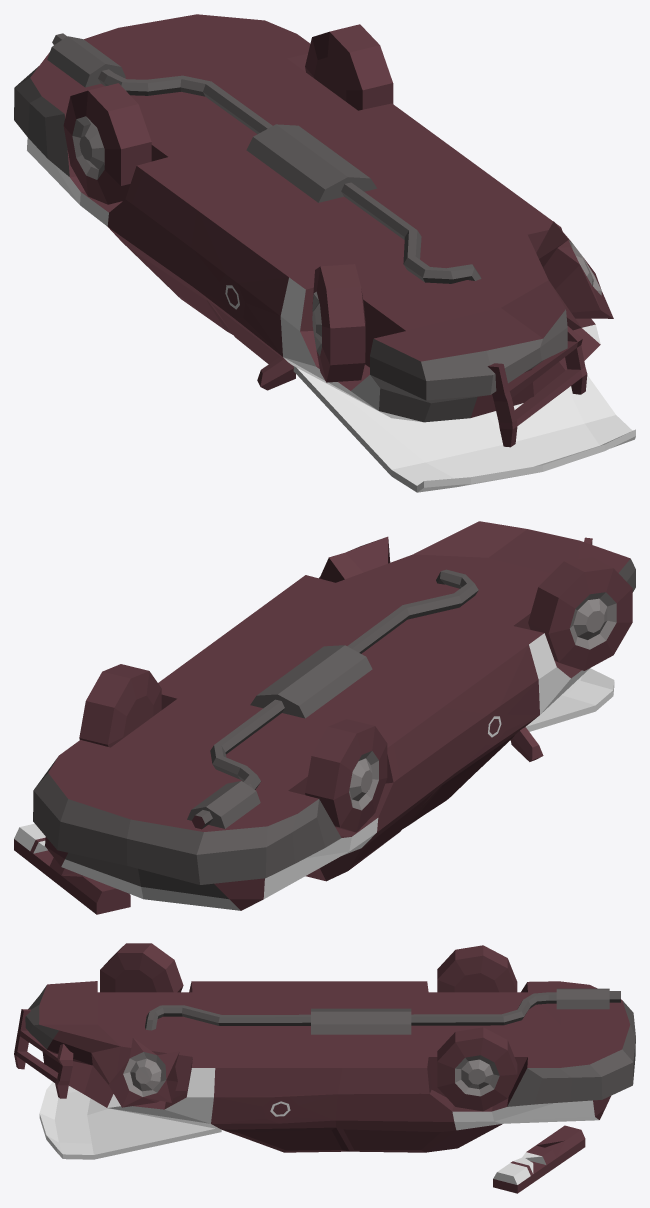
File: car-police-broken-apocalypse.fbx
3 renders of one model, top to bottom at view 1: azimuth 30°, elevation 25°; view 2: azimuth 150°, elevation 25°; view 3: azimuth 270°, elevation 25°, orthographic. The views are drawn at different scales.
Visible parts, largest first — view 1: car-police-broken-apocalypse-base, car-police-broken-apocalypse-wheels; view 2: car-police-broken-apocalypse-base, car-police-broken-apocalypse-wheels; view 3: car-police-broken-apocalypse-base, car-police-broken-apocalypse-wheels.
Boxes of the visible parts, x1=… form: car-police-broken-apocalypse-base: x1=14, y1=14, x2=635, y2=492; car-police-broken-apocalypse-wheels: x1=63, y1=24, x2=613, y2=382; car-police-broken-apocalypse-base: x1=14, y1=521, x2=635, y2=914; car-police-broken-apocalypse-wheels: x1=79, y1=536, x2=632, y2=832; car-police-broken-apocalypse-base: x1=14, y1=981, x2=635, y2=1193; car-police-broken-apocalypse-wheels: x1=100, y1=943, x2=517, y2=1111.
Size of the model in its own units: 2.57 by 1.28 by 5.41.
